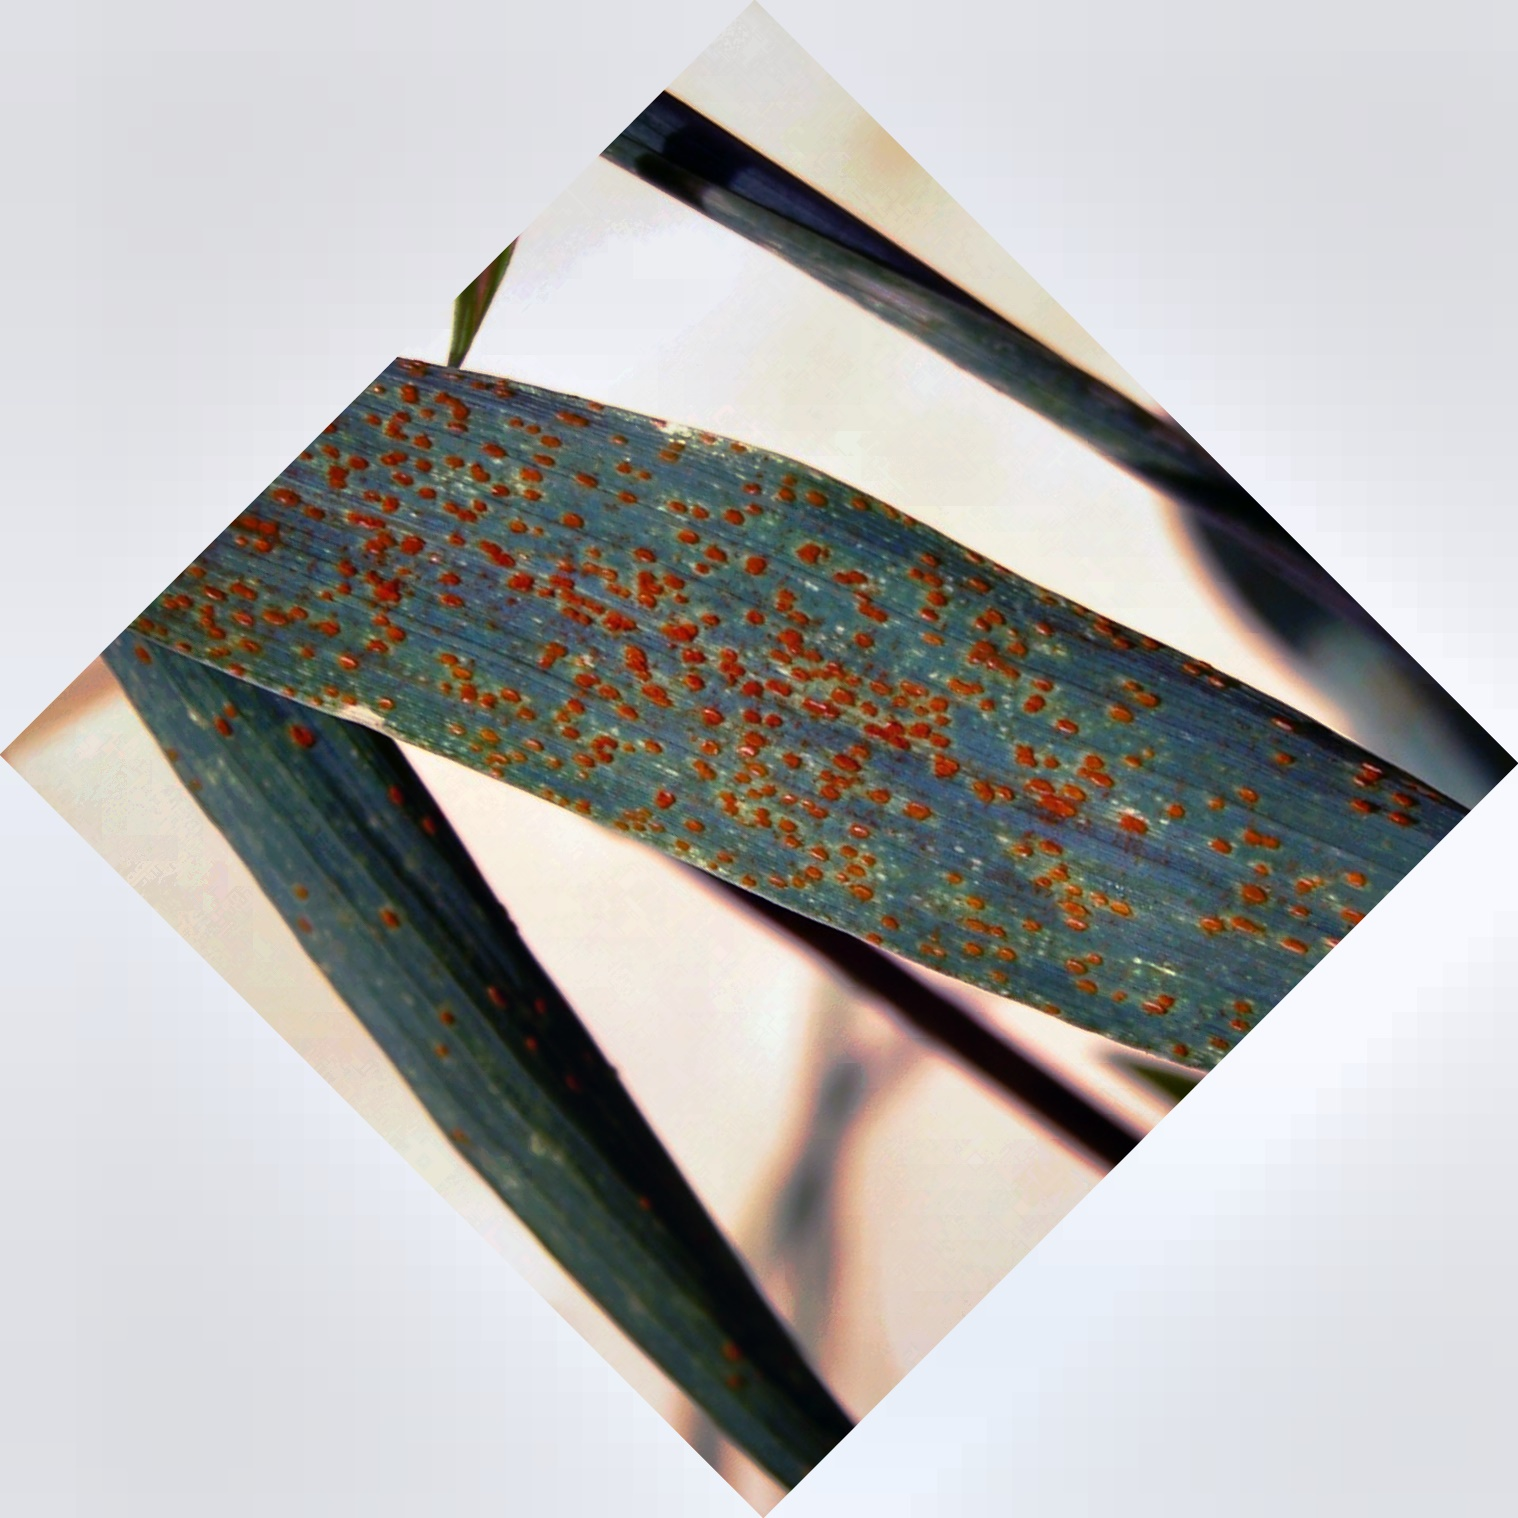Leaf Rust: (313, 425, 1316, 1050)
